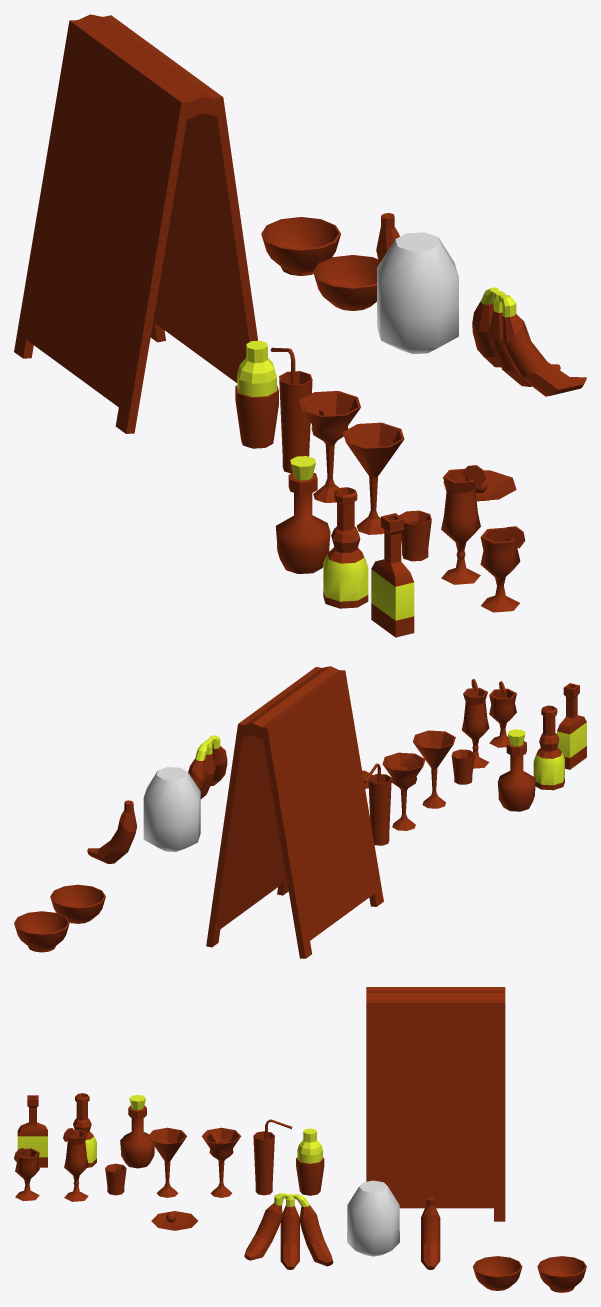
The model's file is Cocktailassetfixed.fbx.
The picture shows the model from 3 angles, top to bottom: view 1: azimuth 30°, elevation 25°; view 2: azimuth 150°, elevation 25°; view 3: azimuth 270°, elevation 25°; orthographic projection. The views are drawn at different scales.
Parts seen in each view (by area): view 1: Box004, Cylinder019, Cylinder017, Cylinder014, Box003, Cylinder012, Cylinder013, Sphere003, Sphere002, Cylinder004, Cylinder007, Cylinder008 (+4 smaller); view 2: Box004, Cylinder019, Cylinder014, Cylinder012, Sphere003, Box003, Sphere002, Cylinder017, Cylinder007, Cylinder009, Cylinder004, Cylinder008 (+3 smaller); view 3: Box004, Cylinder017, Cylinder019, Cylinder014, Cylinder013, Sphere003, Sphere002, Cylinder018, Box003, Cylinder009, Cylinder007, Cylinder004 (+5 smaller).
Boxes of the visible parts, <box> form: Box004: <box>14,14,257,433</box>; Cylinder019: <box>377,232,458,354</box>; Cylinder017: <box>472,287,586,396</box>; Cylinder014: <box>275,456,330,573</box>; Box003: <box>371,513,414,637</box>; Cylinder012: <box>323,487,368,608</box>; Cylinder013: <box>235,340,278,448</box>; Sphere003: <box>261,217,340,275</box>; Sphere002: <box>313,255,379,310</box>; Cylinder004: <box>441,468,480,584</box>; Cylinder007: <box>342,422,404,534</box>; Cylinder008: <box>299,391,360,502</box>; Box004: <box>206,666,383,958</box>; Cylinder019: <box>143,767,200,851</box>; Cylinder014: <box>497,729,535,811</box>; Cylinder012: <box>533,705,564,790</box>; Sphere003: <box>14,911,69,952</box>; Box003: <box>557,683,586,769</box>; Sphere002: <box>50,884,105,923</box>; Cylinder017: <box>188,735,227,798</box>; Cylinder007: <box>413,730,455,808</box>; Cylinder009: <box>368,774,391,845</box>; Cylinder004: <box>461,687,489,768</box>; Cylinder008: <box>382,752,425,830</box>; Box004: <box>366,987,505,1221</box>; Cylinder017: <box>244,1193,333,1269</box>; Cylinder019: <box>347,1180,399,1256</box>; Cylinder014: <box>120,1095,154,1168</box>; Cylinder013: <box>296,1128,324,1195</box>; Sphere003: <box>537,1256,586,1292</box>; Sphere002: <box>473,1256,522,1290</box>; Cylinder018: <box>421,1197,440,1269</box>; Box003: <box>17,1095,47,1167</box>; Cylinder009: <box>253,1131,274,1195</box>; Cylinder007: <box>148,1127,186,1197</box>; Cylinder004: <box>64,1129,88,1201</box>.
Size of the model in its own units: 18.45 by 15.34 by 36.51.
